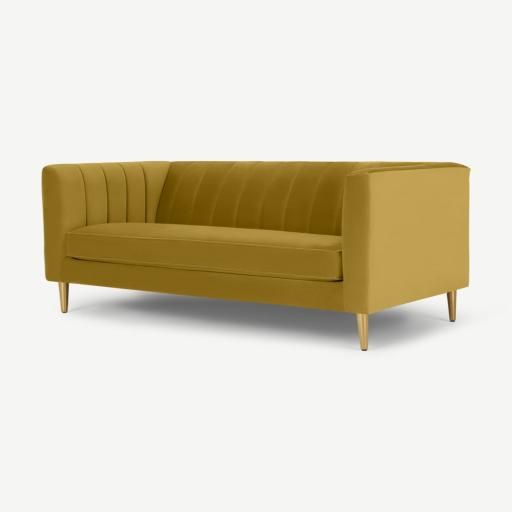back_cushion: (156, 162, 363, 235)
base: (61, 257, 345, 311)
left_arm: (342, 167, 469, 313)
legs: (357, 314, 368, 351), (447, 290, 456, 322), (59, 282, 68, 313)
one-seater: (0, 1, 511, 512)
right_arm: (42, 161, 170, 281)
seat_cushion: (65, 223, 342, 281)
